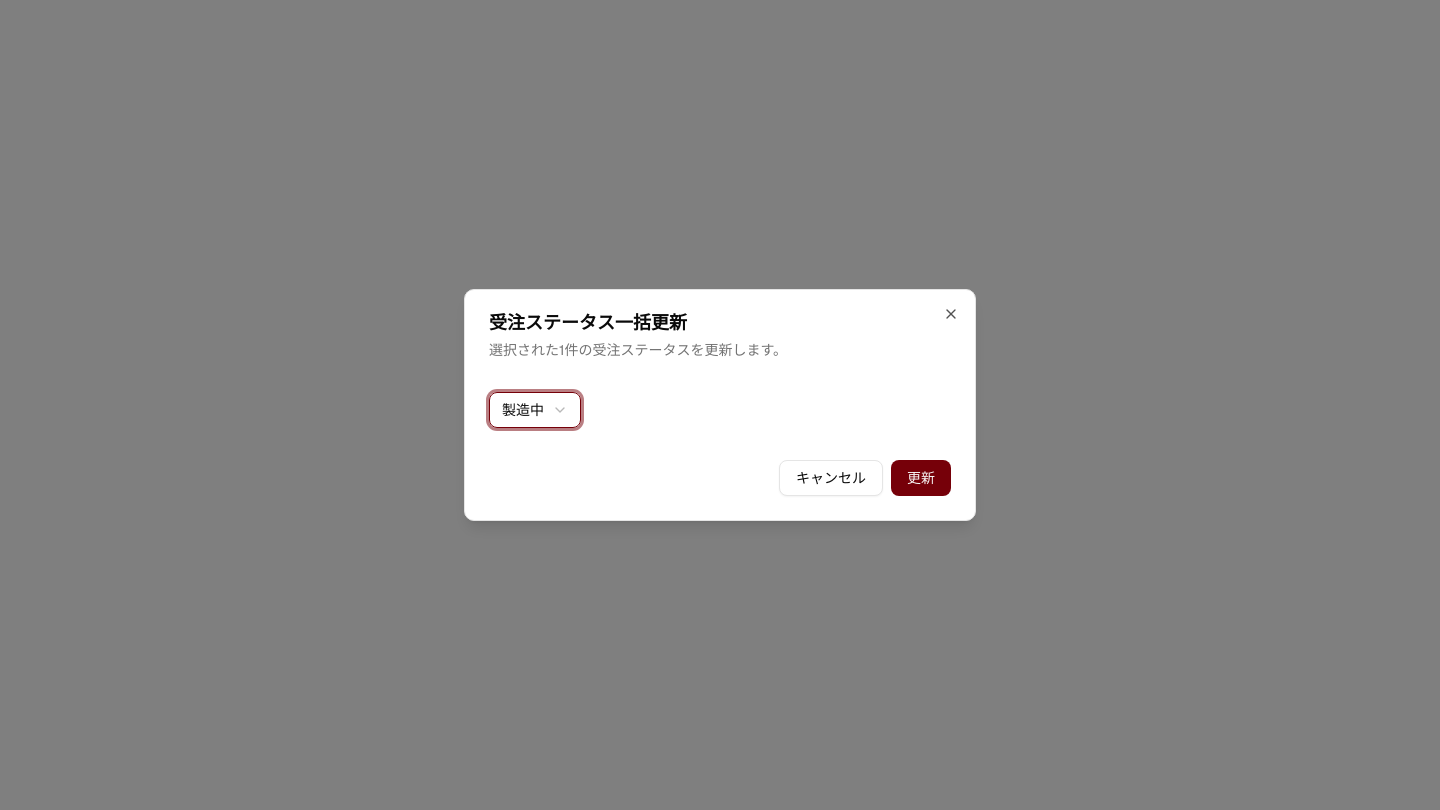
Test: OrderBulkStatusUpdateDialog › Dialog interactions › shows loading state while submitting
This screenshot has width=1440, height=810.
// Select status
Click the dropdown.
click(535, 410)  # box left=489, top=392, right=581, bottom=428
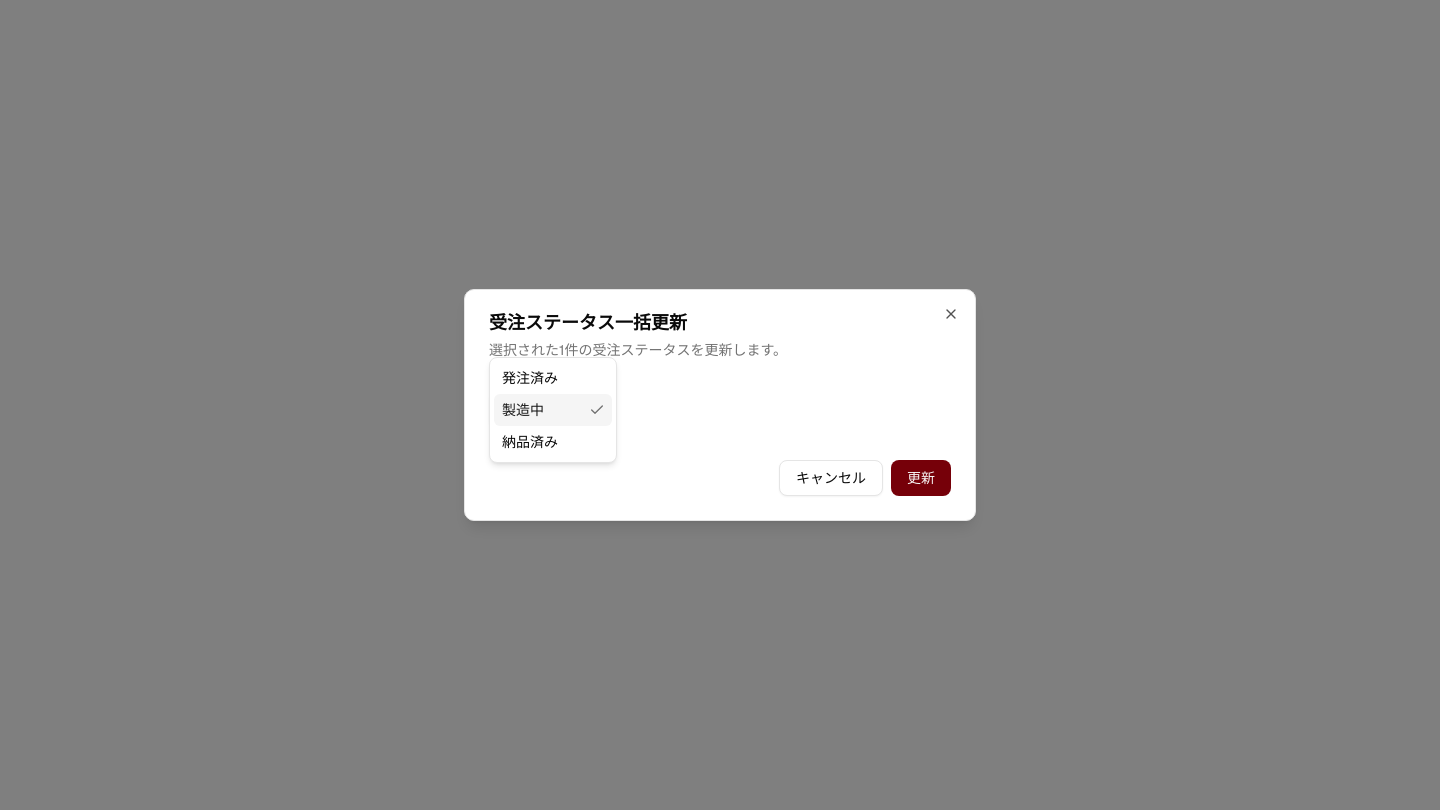
Click the option "製造中".
click(553, 410)  # box left=494, top=394, right=612, bottom=426
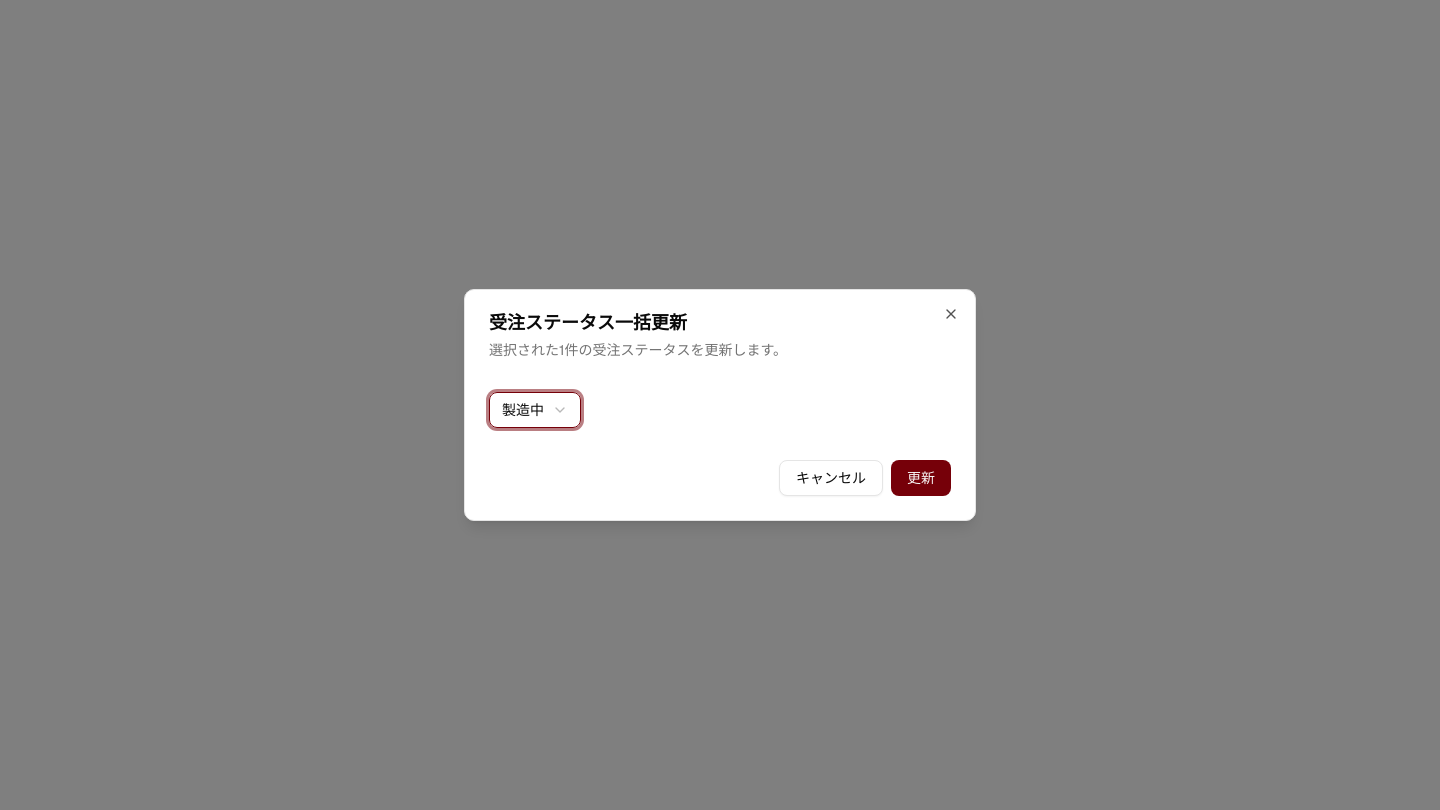
Click the button "更新".
click(921, 478)  # box left=891, top=460, right=951, bottom=496
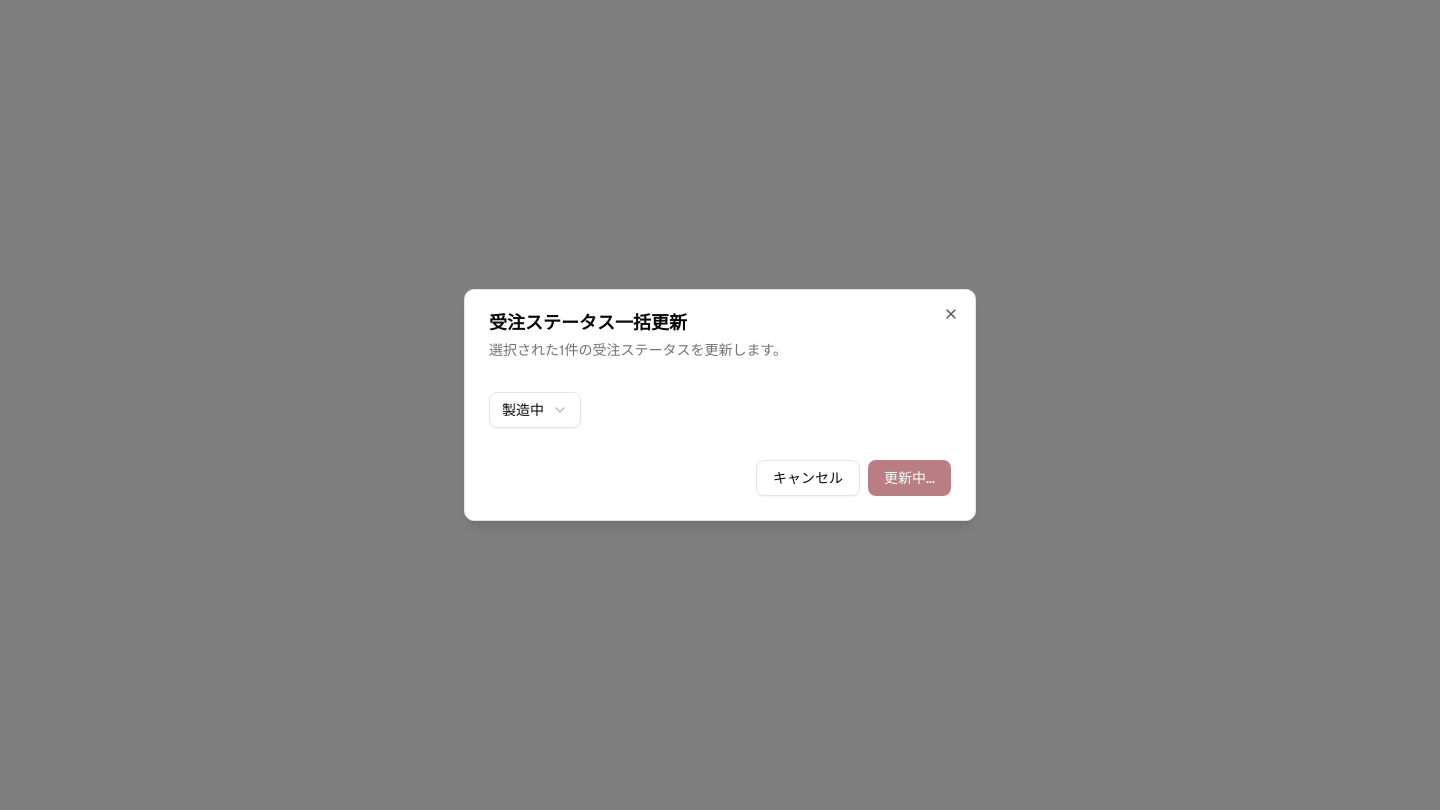
Now the button "更新中..." is shown, box left=868, top=460, right=951, bottom=496
